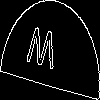W: (25, 25, 57, 79)
